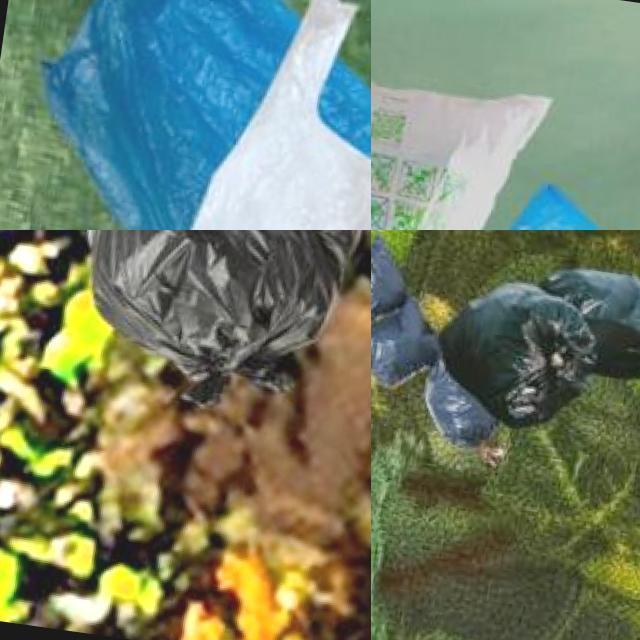waste: (18, 0, 371, 230), (23, 230, 371, 407), (148, 0, 371, 230), (371, 46, 546, 230), (434, 270, 601, 426), (533, 263, 640, 377), (371, 298, 449, 395), (371, 230, 417, 324)
